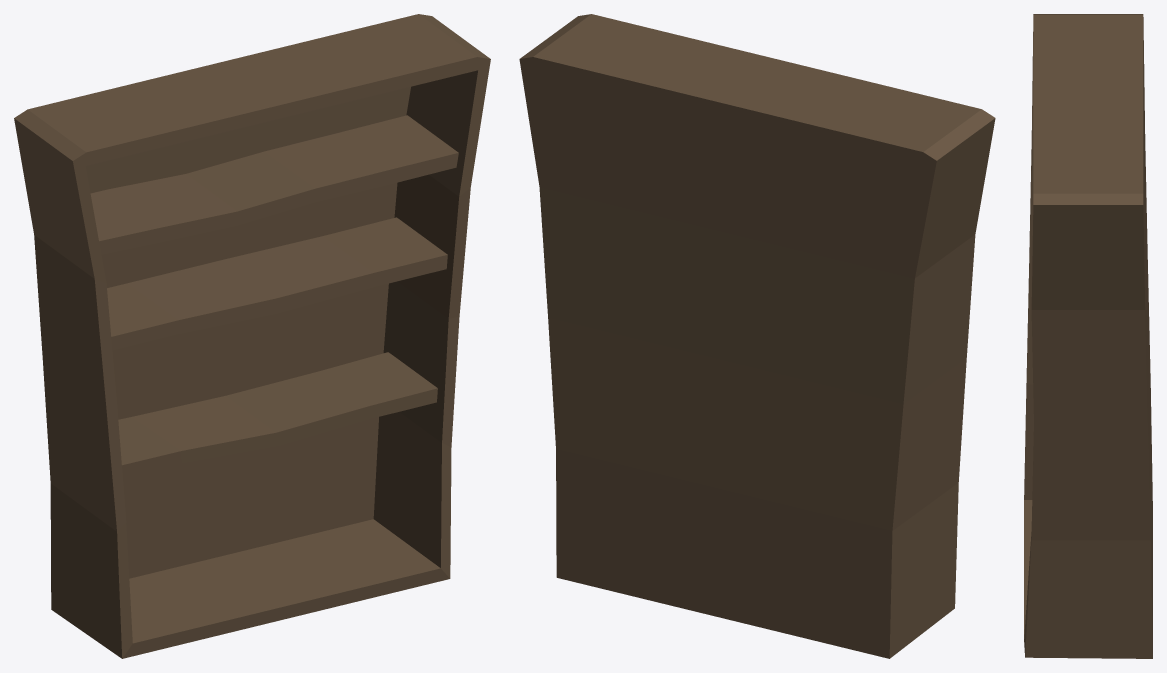
File: shelf.gltf
3 views of the same model, side by side, from view 1: azimuth 30°, elevation 25°; view 2: azimuth 150°, elevation 25°; view 3: azimuth 270°, elevation 25° (orthographic). The views are drawn at different scales.
Parts seen in each view (by area): view 1: Shelf; view 2: Shelf; view 3: Shelf.
Part boxes in pixels (bbox=[...]): Shelf: bbox=[14, 14, 490, 658]; Shelf: bbox=[519, 14, 995, 658]; Shelf: bbox=[1024, 14, 1152, 658].
Size of the model in its own units: 1.99 by 2.33 by 0.5686.
Materials: 1 (1 with a texture image).
